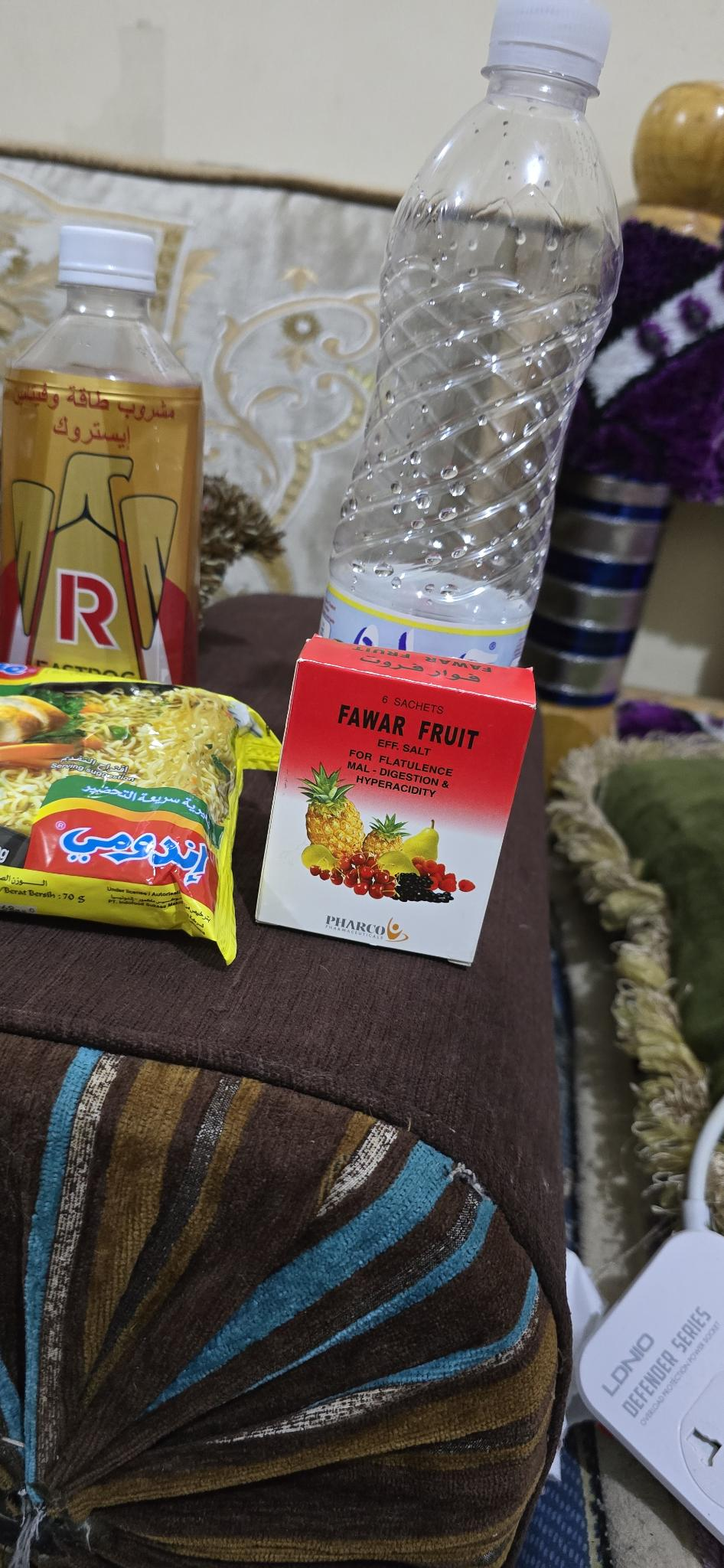Eastroc: (0, 230, 216, 673)
Fawar: (282, 633, 527, 952)
Noodles: (0, 670, 258, 933)
Water: (360, 2, 639, 663)
